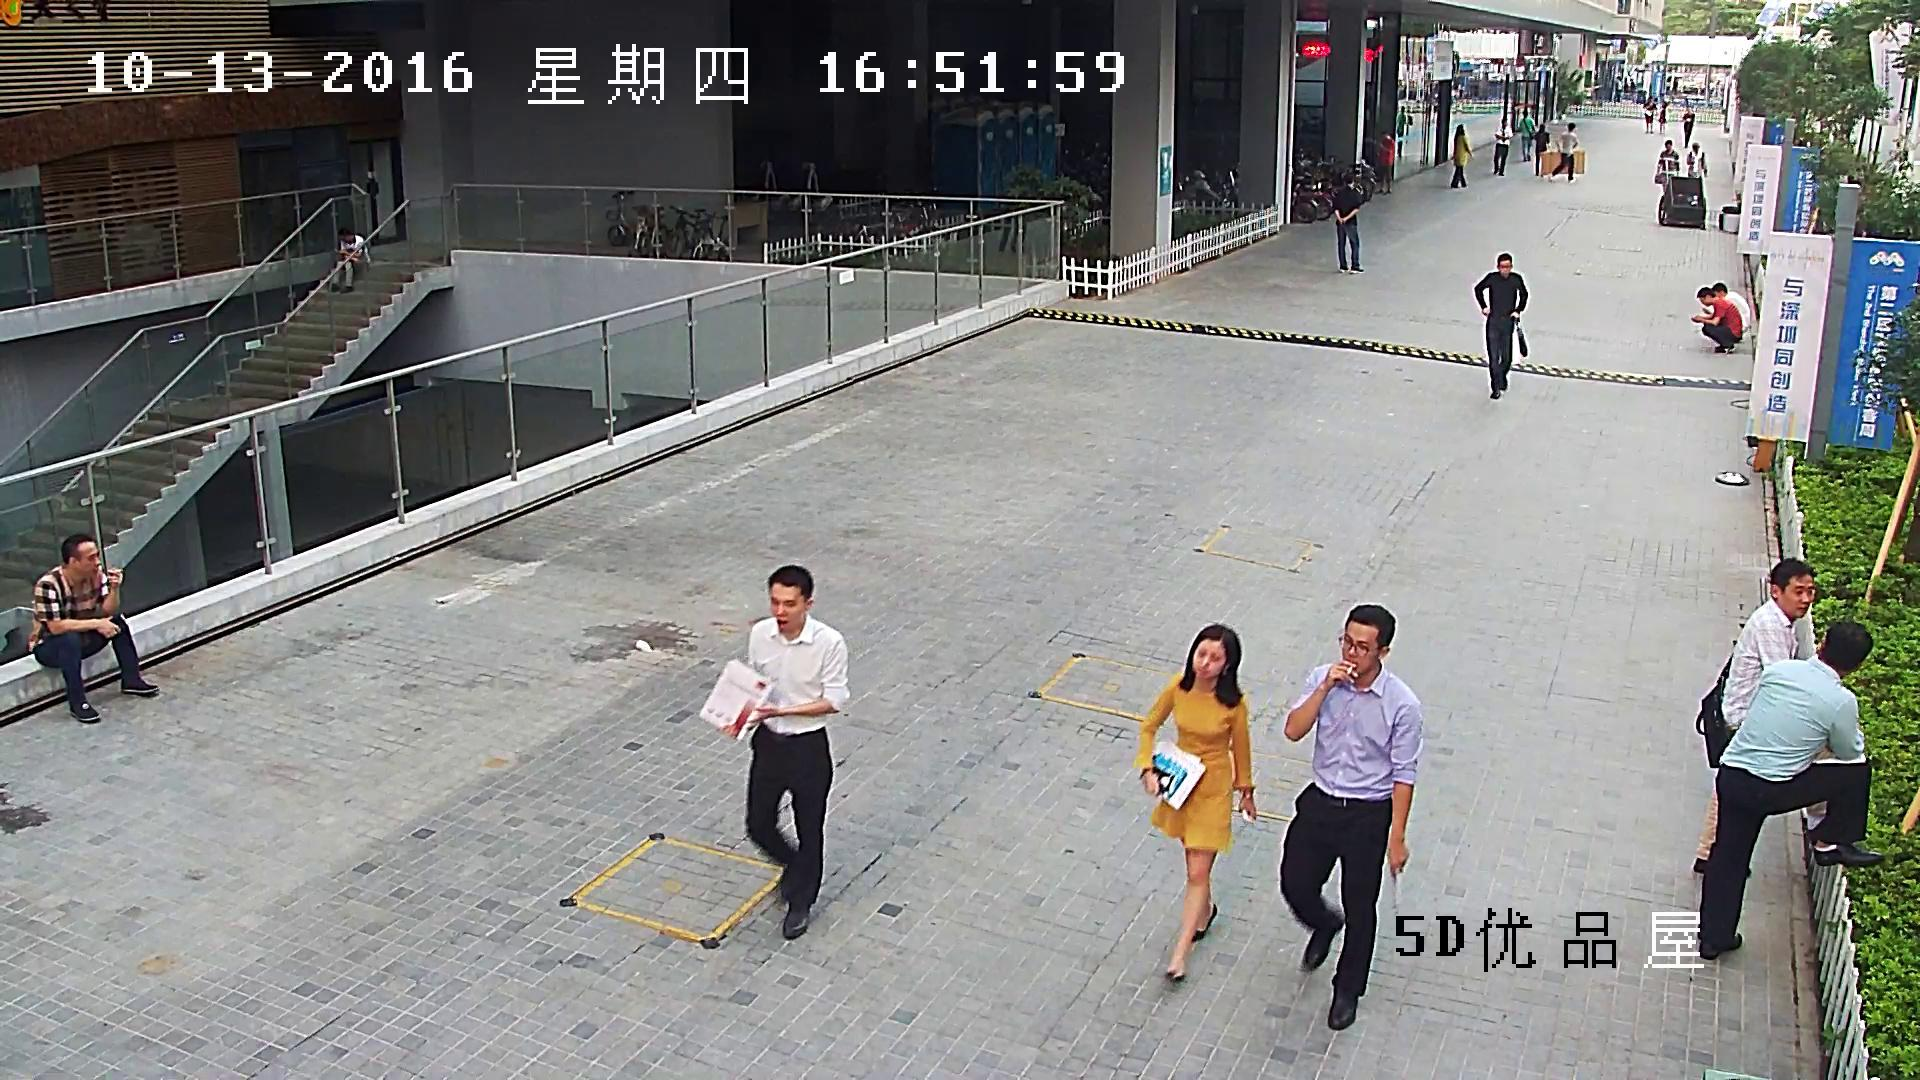person: (1697, 621, 1885, 960), (1280, 604, 1423, 1030), (698, 564, 850, 940), (1132, 623, 1258, 981), (1693, 558, 1829, 876), (28, 533, 160, 723), (1474, 253, 1528, 400), (1688, 286, 1742, 353), (1332, 174, 1364, 273), (1701, 281, 1751, 343), (327, 228, 370, 293), (1540, 122, 1584, 183), (1547, 122, 1577, 184), (1374, 129, 1396, 194), (1654, 139, 1679, 193), (1450, 124, 1471, 187), (998, 204, 1025, 255), (1492, 117, 1511, 176), (1519, 110, 1535, 161), (1534, 123, 1548, 177), (1686, 142, 1707, 178), (1682, 104, 1695, 148), (1643, 97, 1656, 133), (1657, 105, 1667, 134)
